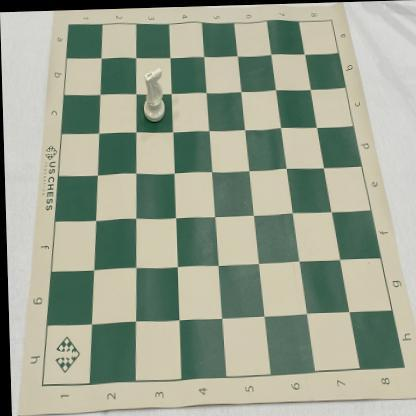white-knight: (142, 66, 165, 120)
